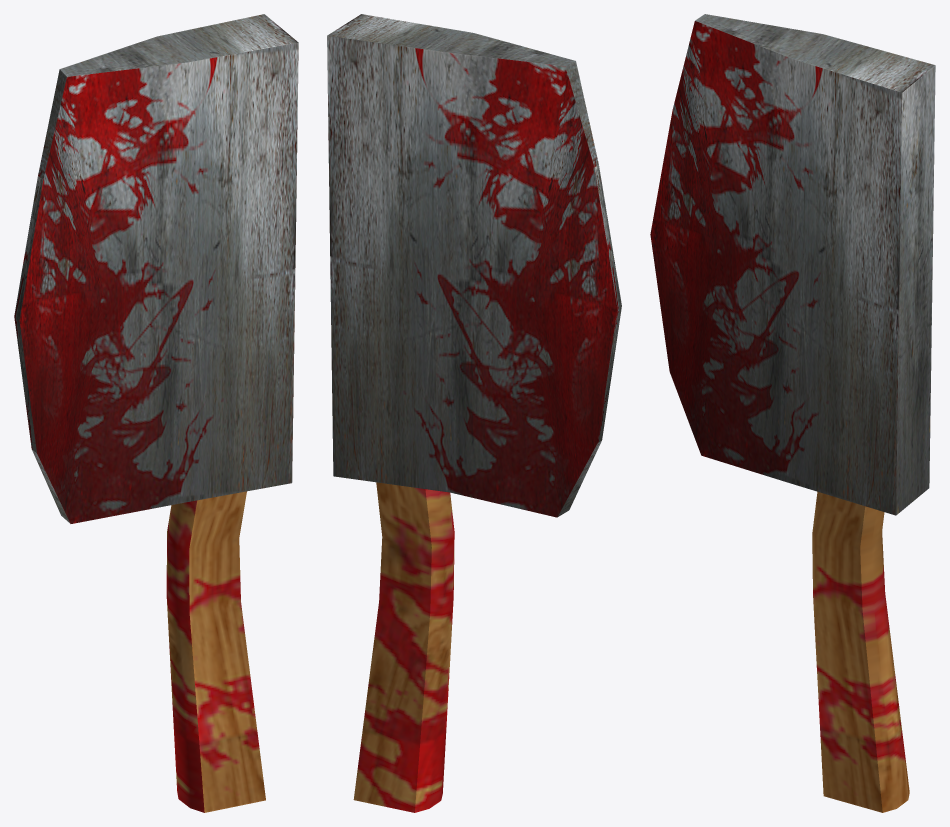
Rendered from slicer.FBX.
The picture shows the model from 3 angles, left to right: view 1: azimuth 30°, elevation 25°; view 2: azimuth 150°, elevation 25°; view 3: azimuth 330°, elevation 25°; orthographic projection. The views are drawn at different scales.
Parts seen in each view (by area): view 1: hachoire; view 2: hachoire; view 3: hachoire.
Part boxes in pixels (x1,y1,x2,y2): hachoire: (14, 14, 298, 812); hachoire: (327, 14, 621, 812); hachoire: (650, 14, 935, 812).
Size of the model in its own units: 33.55 by 7.58 by 91.36.
